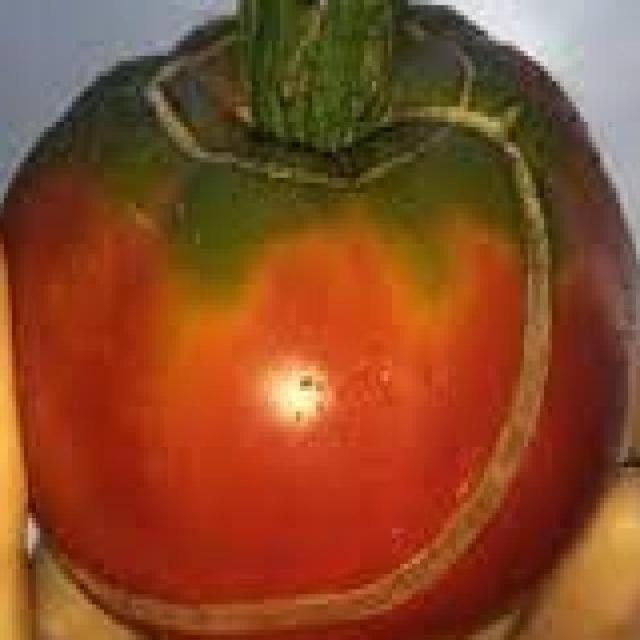Cracking Fruit: (197, 68, 354, 371)
